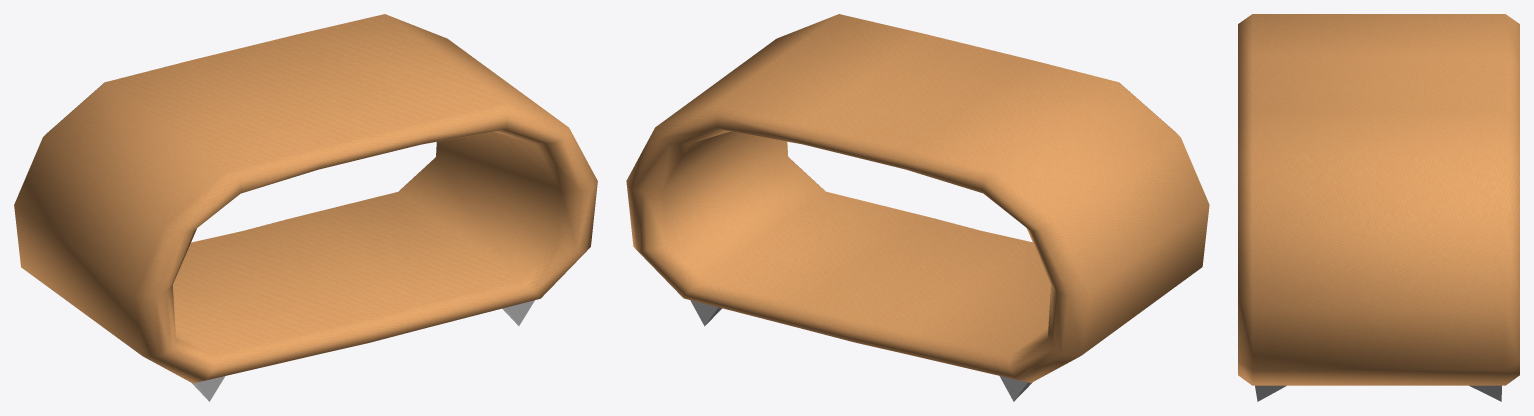
The model's file is Open_Stool_B_2.FBX.
3 renders of one model, left to right at view 1: azimuth 30°, elevation 25°; view 2: azimuth 150°, elevation 25°; view 3: azimuth 270°, elevation 25°, orthographic. The views are drawn at different scales.
Parts seen in each view (by area): view 1: Stool_01; view 2: Stool_01; view 3: Stool_01.
Boxes of the visible parts, x1,y1,x2,y2 form: Stool_01: (14, 14, 597, 401); Stool_01: (626, 14, 1209, 401); Stool_01: (1238, 14, 1519, 401).
Bounding box in the file's own units: 172 × 81.63 × 87.07.
